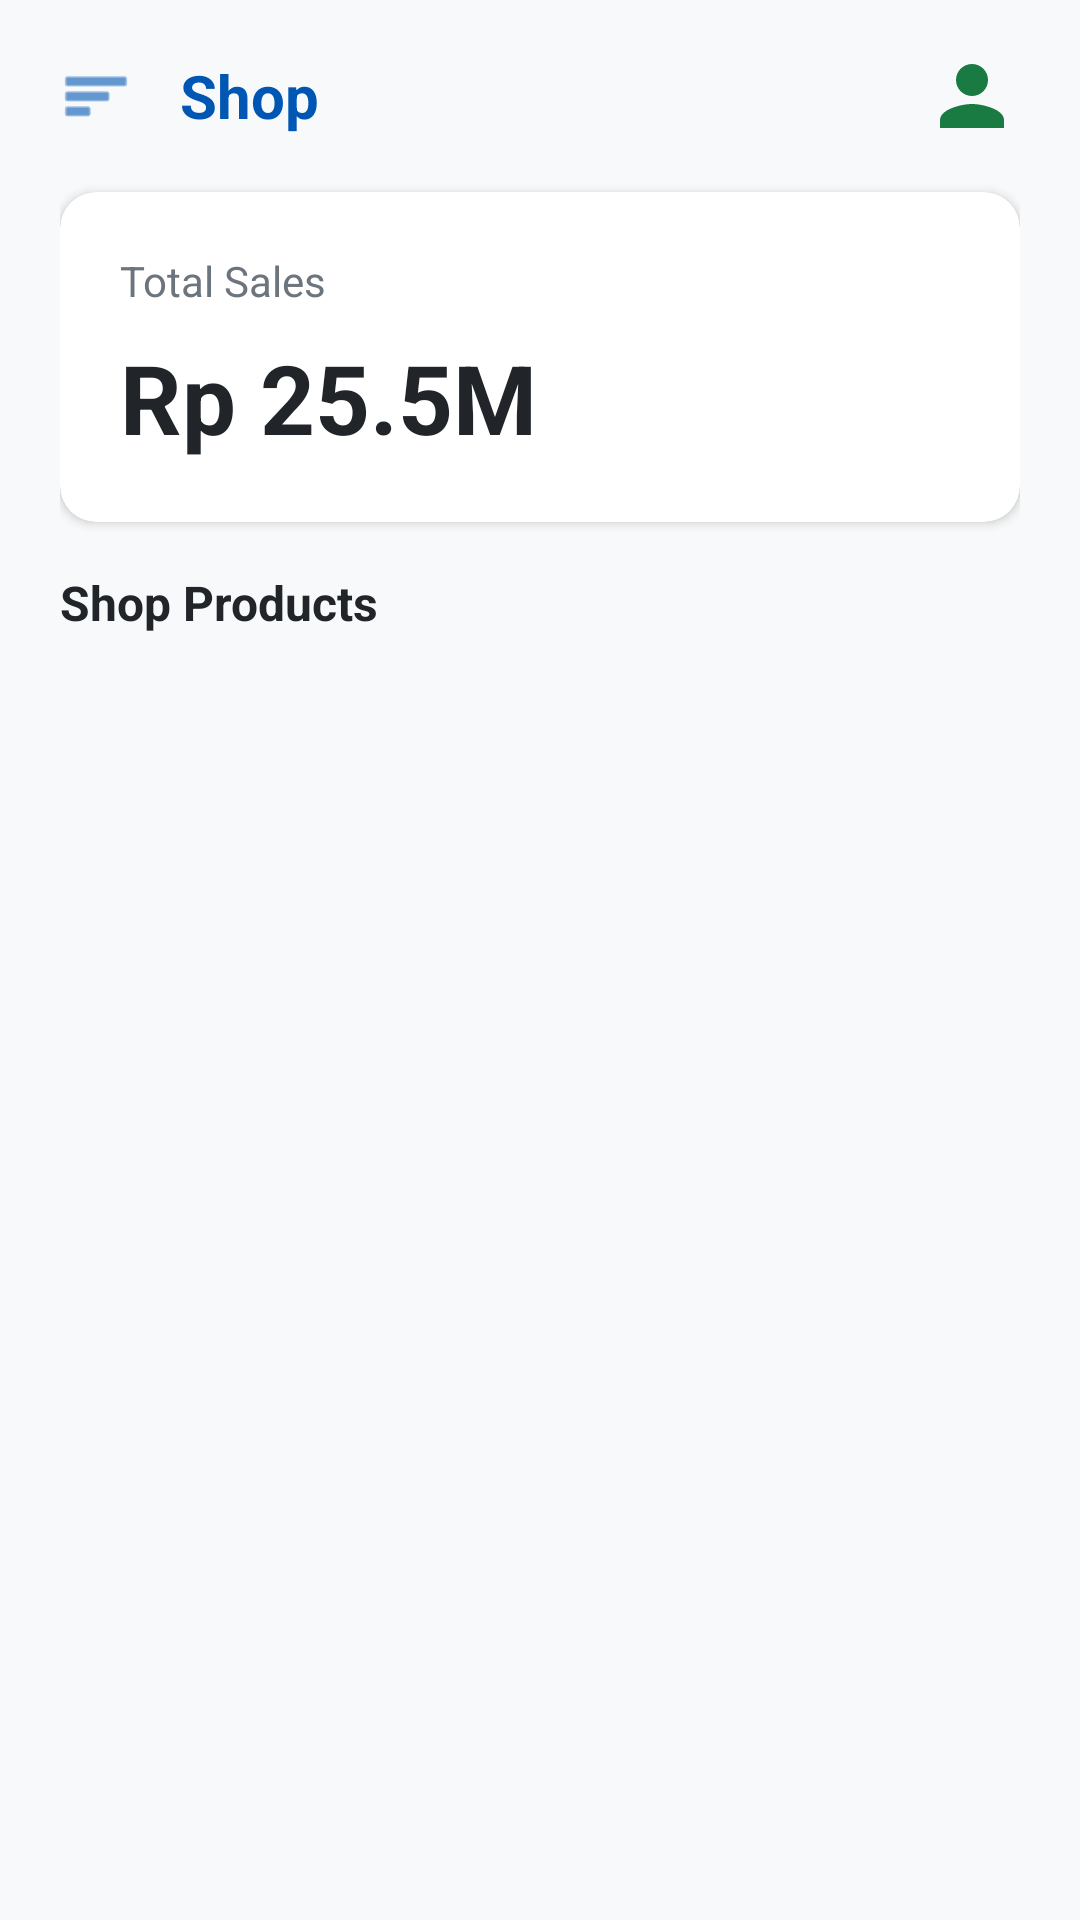

Point at icon controls on the screen. Image size 1080x1920, points as point (x, y).
person: point (972, 96)
sort by size: point (96, 96)
